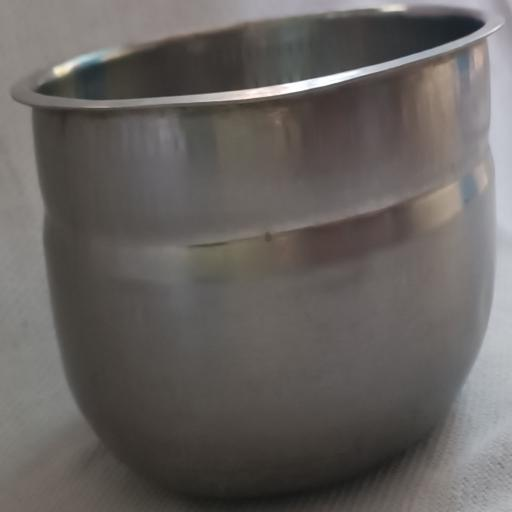vessel: (13, 6, 500, 495)
